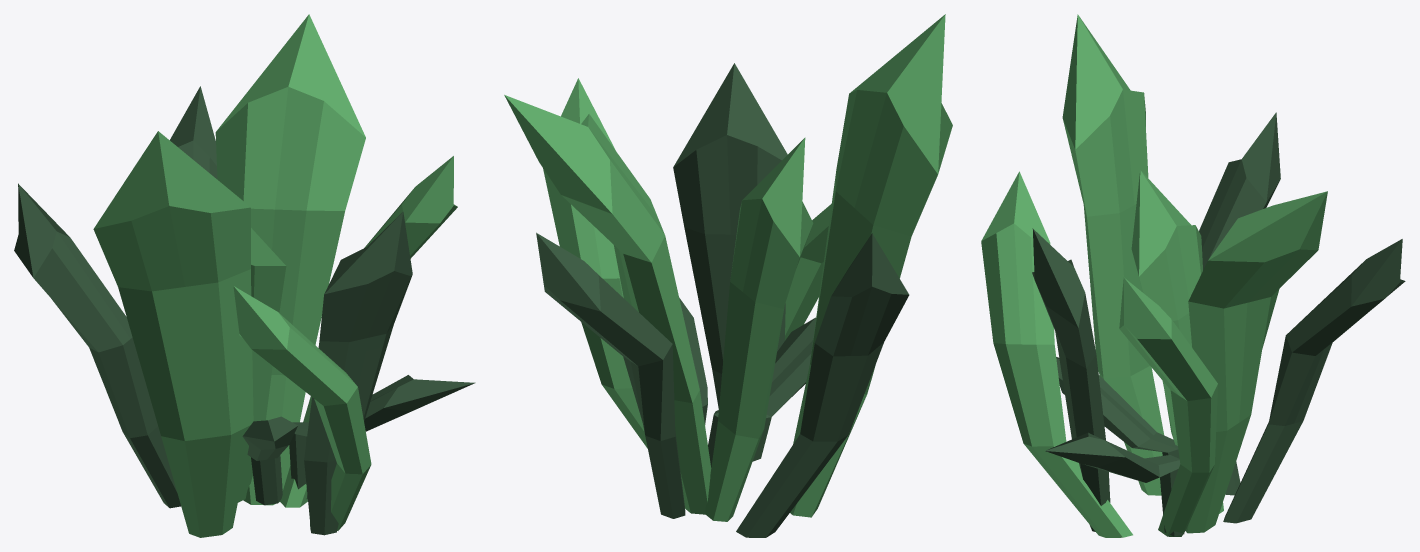
The model's file is Grass.fbx.
3 renders of one model, left to right at view 1: azimuth 30°, elevation 25°; view 2: azimuth 150°, elevation 25°; view 3: azimuth 270°, elevation 25°, orthographic. The views are drawn at different scales.
Parts seen in each view (by area): view 1: Grass; view 2: Grass; view 3: Grass.
Boxes of the visible parts, bbox=[...] form: Grass: bbox=[14, 14, 475, 537]; Grass: bbox=[504, 14, 952, 537]; Grass: bbox=[981, 14, 1405, 537].
Size of the model in its own units: 37.38 by 43.16 by 38.23.
